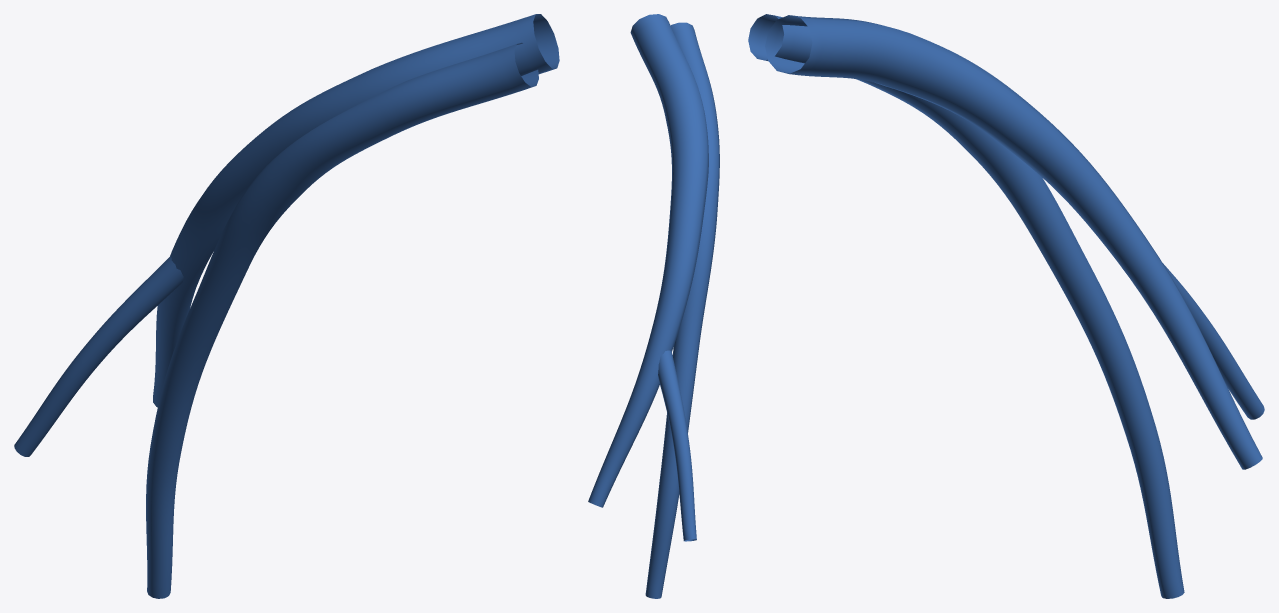
The picture shows the model from 3 angles, left to right: view 1: azimuth 30°, elevation 25°; view 2: azimuth 150°, elevation 25°; view 3: azimuth 270°, elevation 25°; orthographic projection. The views are drawn at different scales.
Parts seen in each view (by area): view 1: 右肺内侧静脉; view 2: 右肺内侧静脉; view 3: 右肺内侧静脉.
Boxes of the visible parts, x1,y1,x2,y2 form: 右肺内侧静脉: (14, 14, 559, 598); 右肺内侧静脉: (588, 14, 719, 598); 右肺内侧静脉: (748, 14, 1264, 598).
Bounding box in the file's own units: 0.0548 × 0.1105 × 0.0769.
